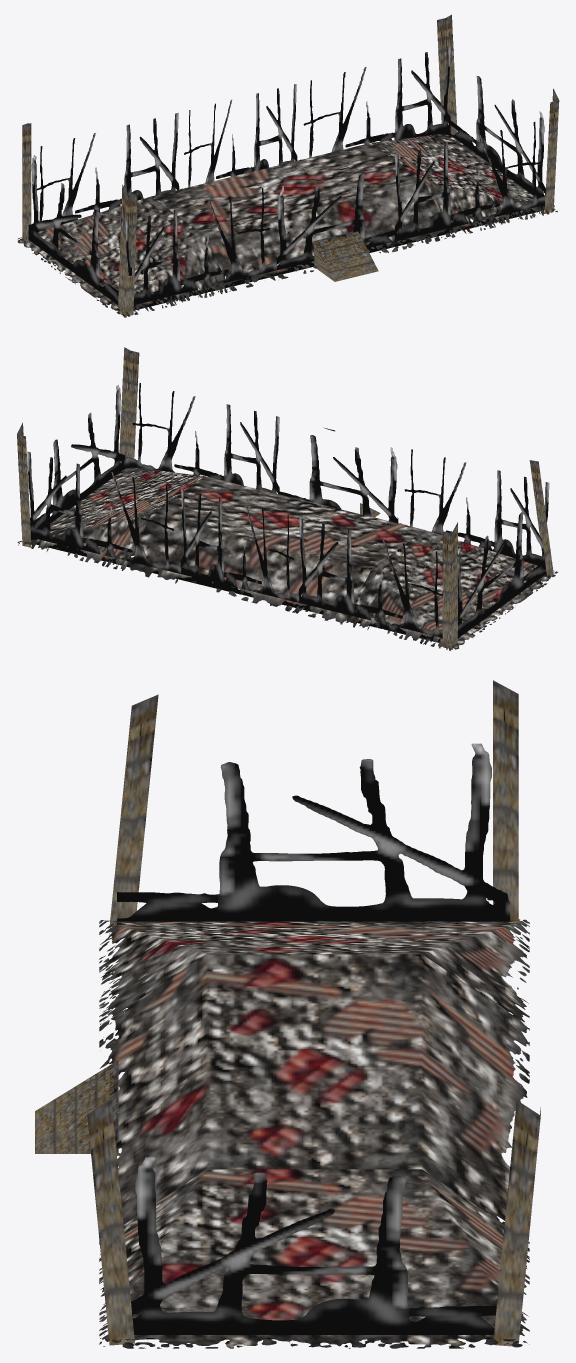
Rendered from s_barracks_dam.glb.
3 renders of one model, top to bottom at view 1: azimuth 30°, elevation 25°; view 2: azimuth 150°, elevation 25°; view 3: azimuth 270°, elevation 25°, orthographic. The views are drawn at different scales.
Parts seen in each view (by area): view 1: S_BarracksDam; view 2: S_BarracksDam; view 3: S_BarracksDam.
Part boxes in pixels (x1,y1,x2,y2): S_BarracksDam: [17, 14, 559, 317]; S_BarracksDam: [17, 347, 558, 650]; S_BarracksDam: [35, 680, 540, 1348].
Size of the model in its own units: 19.04 by 5.14 by 9.47.
3 materials, 3 textured.
